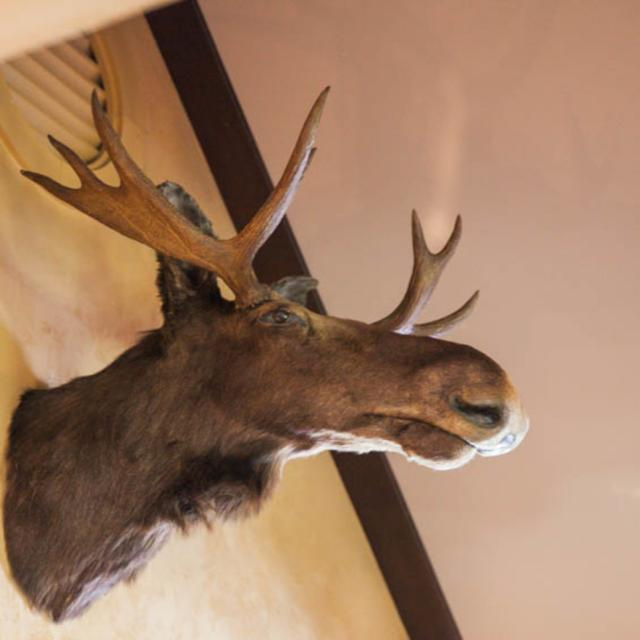Deer: (1, 85, 530, 626)
